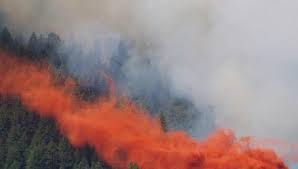fire: (16, 72, 292, 169)
